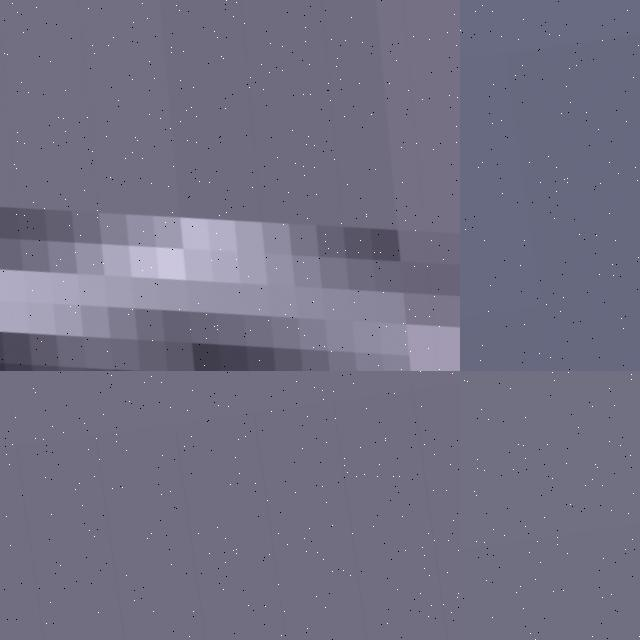drone: (0, 0, 460, 371)
